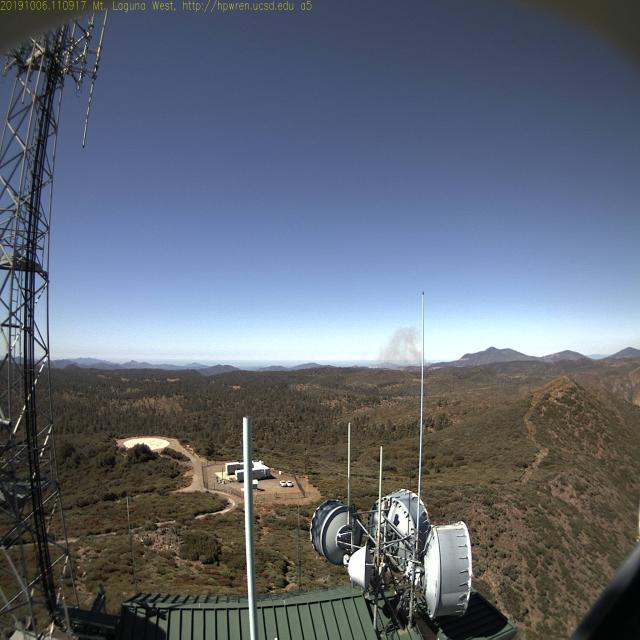smoke: (376, 321, 433, 369)
